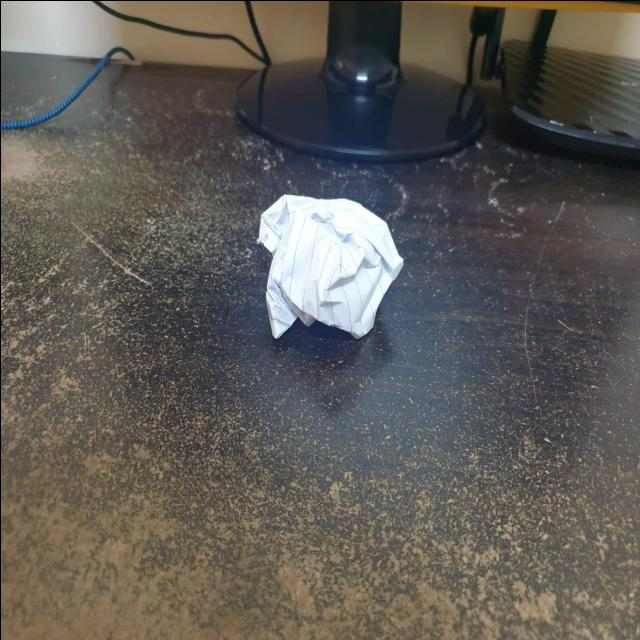kertas: (252, 190, 404, 342)
